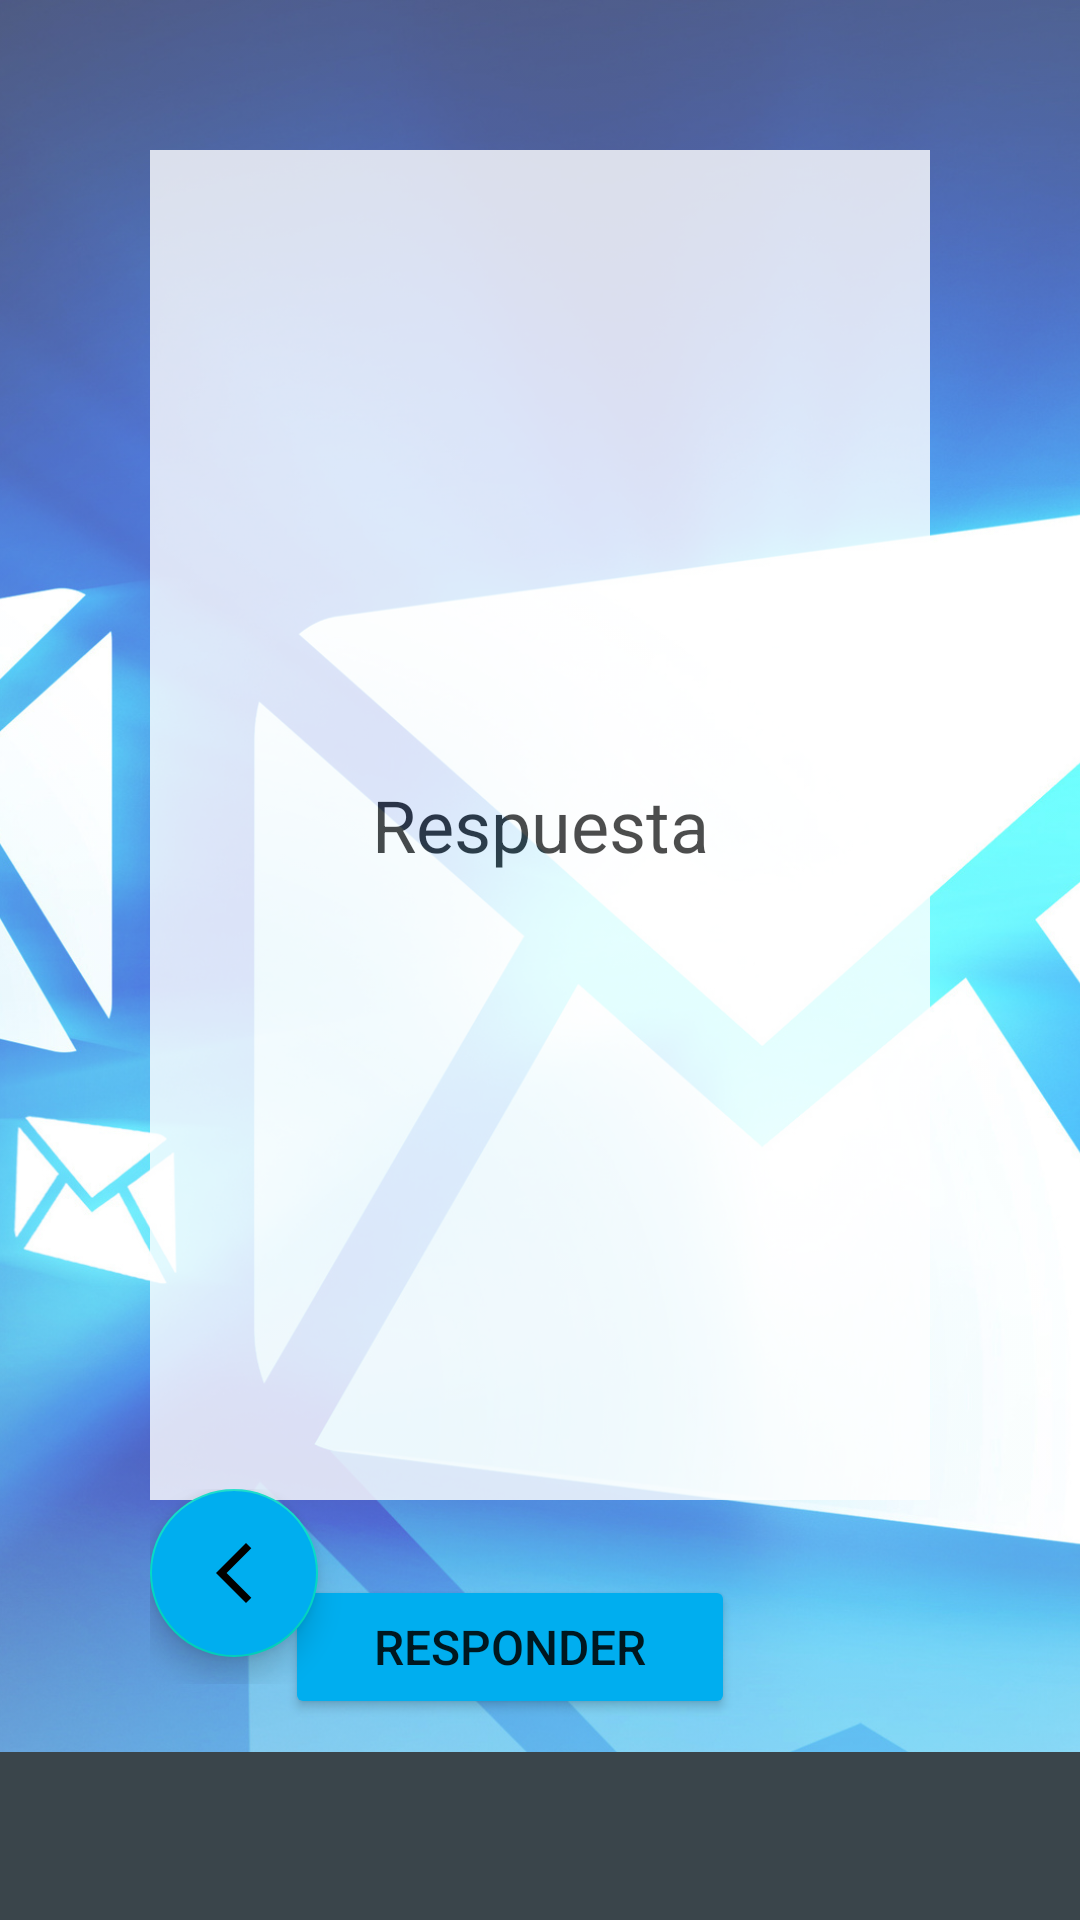

Icons on this 1080px x 1920px Android screen, each with the point to tap as (x,y):
volver: (234,1573)
